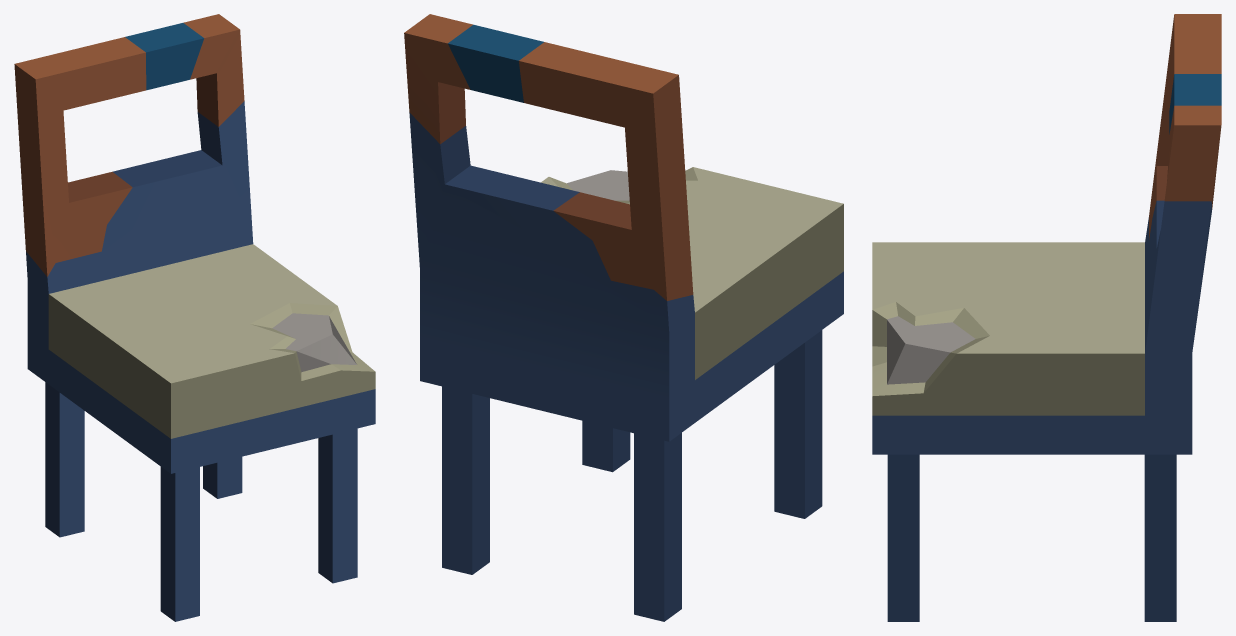
Rendered from SA_Prop_Chair_Damaged_03.glb.
3 renders of one model, left to right at view 1: azimuth 30°, elevation 25°; view 2: azimuth 150°, elevation 25°; view 3: azimuth 270°, elevation 25°, orthographic. The views are drawn at different scales.
Parts seen in each view (by area): view 1: SA_Prop_Chair_Damaged_03; view 2: SA_Prop_Chair_Damaged_03; view 3: SA_Prop_Chair_Damaged_03.
Boxes of the visible parts, x1=… form: SA_Prop_Chair_Damaged_03: x1=14, y1=14, x2=375, y2=621; SA_Prop_Chair_Damaged_03: x1=404, y1=14, x2=843, y2=621; SA_Prop_Chair_Damaged_03: x1=872, y1=14, x2=1221, y2=621.
Bounding box in the file's own units: 0.3726 × 0.7853 × 0.4941.
1 material, 1 textured.
